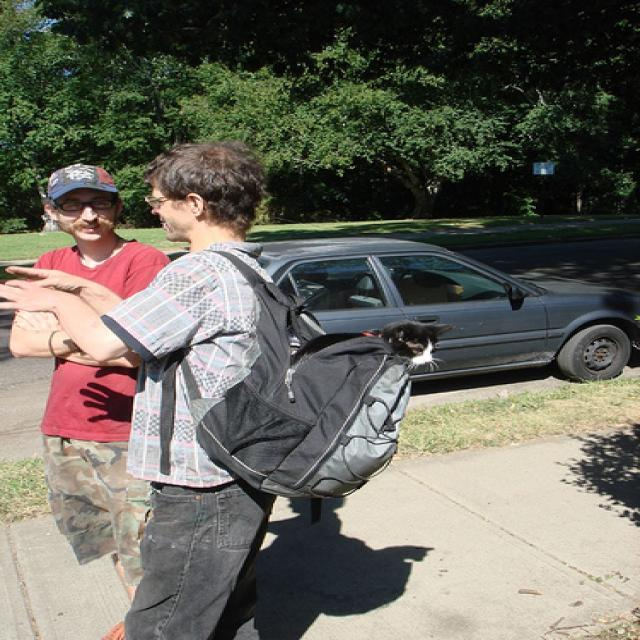Vehicle: (255, 234, 640, 383)
